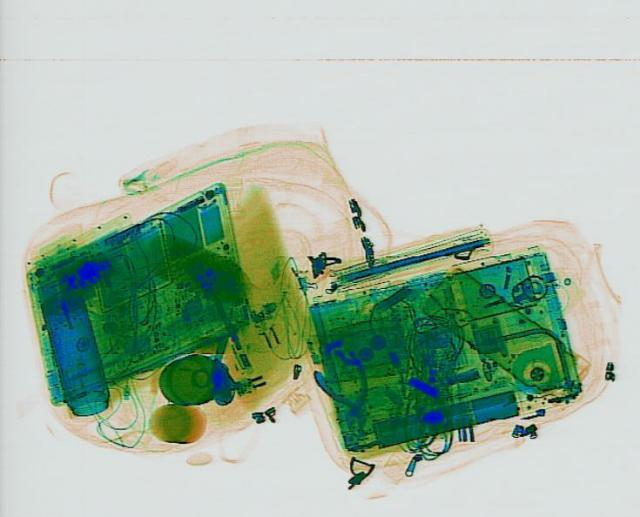Pliers: (308, 356, 382, 432)
